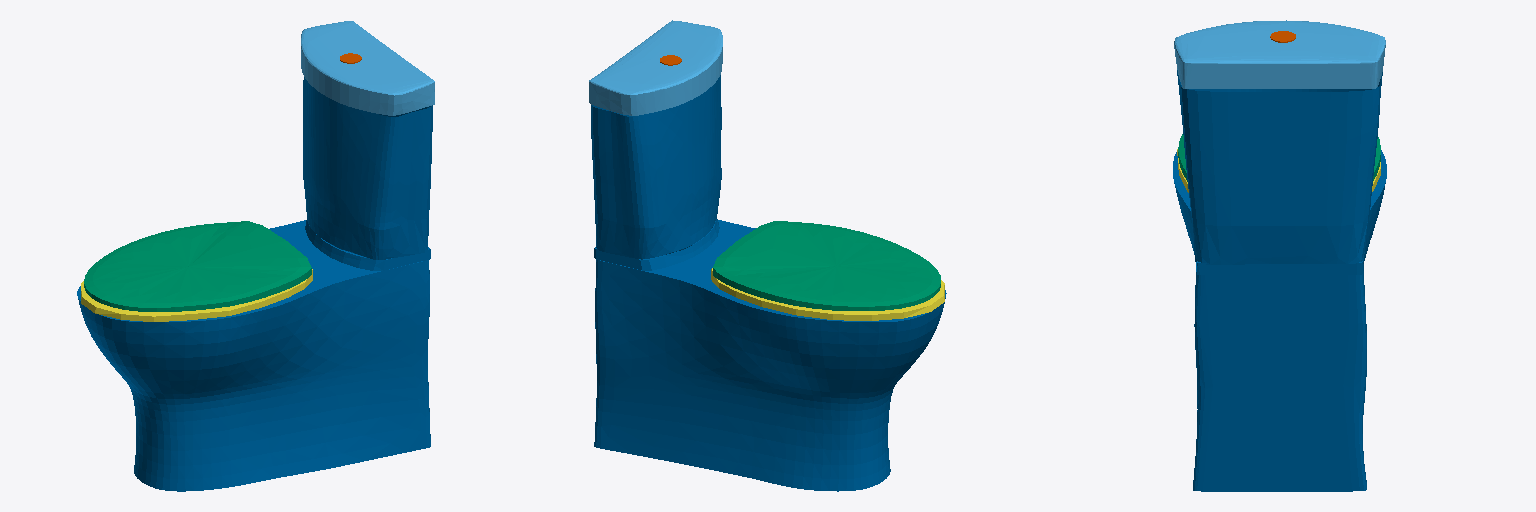
URDF robot description (partnet_85448c8365f5fa193321831d2245cf06):
<robot name="partnet_85448c8365f5fa193321831d2245cf06">
	<link name="base" />
	<link name="link_0">
		<collision>
			<origin xyz="0 0 0" />
			<geometry>
				<mesh filename="new_objs/102663_link_0_0.obj" />
			</geometry>
		</collision>
	<visual name="lid-part[&quot;id]">
			<origin xyz="0 0 0" />
			<geometry>
				<mesh filename="textured_objs/original-5.obj" />
			</geometry>
		</visual>
		</link>
	<joint name="joint_0" type="prismatic">
		<origin xyz="0 0 0" />
		<axis xyz="0 1 0" />
		<child link="link_0" />
		<parent link="link_3" />
		<limit lower="0" upper="0.01" />
	</joint>
	<link name="link_1">
		<collision>
			<origin xyz="0 -0.12285677105096757 0.005614757885865384" />
			<geometry>
				<mesh filename="new_objs/102663_link_1_0.obj" />
			</geometry>
		</collision>
	<visual name="lid-part[&quot;id]">
			<origin xyz="0 -0.12285677105096757 0.005614757885865384" />
			<geometry>
				<mesh filename="textured_objs/original-3.obj" />
			</geometry>
		</visual>
		</link>
	<joint name="joint_1" type="revolute">
		<origin xyz="0 0.12285677105096757 -0.005614757885865384" />
		<axis xyz="-1 0 0" />
		<child link="link_1" />
		<parent link="link_3" />
		<limit lower="-0.0" upper="1.7366026057343578" />
	</joint>
	<link name="link_2">
		<collision>
			<origin xyz="0 -0.09043046247932379 -0.002321841553028229" />
			<geometry>
				<mesh filename="new_objs/102663_link_2_0.obj" />
			</geometry>
		</collision>
	<visual name="seat-part[&quot;id]">
			<origin xyz="0 -0.09043046247932379 -0.002321841553028229" />
			<geometry>
				<mesh filename="textured_objs/original-7.obj" />
			</geometry>
		</visual>
		</link>
	<joint name="joint_2" type="revolute">
		<origin xyz="0 0.09043046247932379 0.002321841553028229" />
		<axis xyz="-1 0 0" />
		<child link="link_2" />
		<parent link="link_3" />
		<limit lower="-0.0" upper="1.6929693744344996" />
	</joint>
	<link name="link_3">
		<collision>
			<origin xyz="0 0 0" />
			<geometry>
				<mesh filename="new_objs/102663_link_3_61.obj" />
			</geometry>
		</collision>
		<collision>
			<origin xyz="0 0 0" />
			<geometry>
				<mesh filename="new_objs/102663_link_3_34.obj" />
			</geometry>
		</collision>
		<collision>
			<origin xyz="0 0 0" />
			<geometry>
				<mesh filename="new_objs/102663_link_3_50.obj" />
			</geometry>
		</collision>
		<collision>
			<origin xyz="0 0 0" />
			<geometry>
				<mesh filename="new_objs/102663_link_3_0.obj" />
			</geometry>
		</collision>
		<collision>
			<origin xyz="0 0 0" />
			<geometry>
				<mesh filename="new_objs/102663_link_3_12.obj" />
			</geometry>
		</collision>
		<collision>
			<origin xyz="0 0 0" />
			<geometry>
				<mesh filename="new_objs/102663_link_3_22.obj" />
			</geometry>
		</collision>
		<collision>
			<origin xyz="0 0 0" />
			<geometry>
				<mesh filename="new_objs/102663_link_3_54.obj" />
			</geometry>
		</collision>
		<collision>
			<origin xyz="0 0 0" />
			<geometry>
				<mesh filename="new_objs/102663_link_3_29.obj" />
			</geometry>
		</collision>
		<collision>
			<origin xyz="0 0 0" />
			<geometry>
				<mesh filename="new_objs/102663_link_3_13.obj" />
			</geometry>
		</collision>
		<collision>
			<origin xyz="0 0 0" />
			<geometry>
				<mesh filename="new_objs/102663_link_3_64.obj" />
			</geometry>
		</collision>
		<collision>
			<origin xyz="0 0 0" />
			<geometry>
				<mesh filename="new_objs/102663_link_3_60.obj" />
			</geometry>
		</collision>
		<collision>
			<origin xyz="0 0 0" />
			<geometry>
				<mesh filename="new_objs/102663_link_3_17.obj" />
			</geometry>
		</collision>
		<collision>
			<origin xyz="0 0 0" />
			<geometry>
				<mesh filename="new_objs/102663_link_3_56.obj" />
			</geometry>
		</collision>
		<collision>
			<origin xyz="0 0 0" />
			<geometry>
				<mesh filename="new_objs/102663_link_3_25.obj" />
			</geometry>
		</collision>
		<collision>
			<origin xyz="0 0 0" />
			<geometry>
				<mesh filename="new_objs/102663_link_3_58.obj" />
			</geometry>
		</collision>
		<collision>
			<origin xyz="0 0 0" />
			<geometry>
				<mesh filename="new_objs/102663_link_3_36.obj" />
			</geometry>
		</collision>
		<collision>
			<origin xyz="0 0 0" />
			<geometry>
				<mesh filename="new_objs/102663_link_3_40.obj" />
			</geometry>
		</collision>
		<collision>
			<origin xyz="0 0 0" />
			<geometry>
				<mesh filename="new_objs/102663_link_3_46.obj" />
			</geometry>
		</collision>
		<collision>
			<origin xyz="0 0 0" />
			<geometry>
				<mesh filename="new_objs/102663_link_3_16.obj" />
			</geometry>
		</collision>
		<collision>
			<origin xyz="0 0 0" />
			<geometry>
				<mesh filename="new_objs/102663_link_3_9.obj" />
			</geometry>
		</collision>
		<collision>
			<origin xyz="0 0 0" />
			<geometry>
				<mesh filename="new_objs/102663_link_3_37.obj" />
			</geometry>
		</collision>
		<collision>
			<origin xyz="0 0 0" />
			<geometry>
				<mesh filename="new_objs/102663_link_3_49.obj" />
			</geometry>
		</collision>
		<collision>
			<origin xyz="0 0 0" />
			<geometry>
				<mesh filename="new_objs/102663_link_3_14.obj" />
			</geometry>
		</collision>
		<collision>
			<origin xyz="0 0 0" />
			<geometry>
				<mesh filename="new_objs/102663_link_3_51.obj" />
			</geometry>
		</collision>
		<collision>
			<origin xyz="0 0 0" />
			<geometry>
				<mesh filename="new_objs/102663_link_3_10.obj" />
			</geometry>
		</collision>
		<collision>
			<origin xyz="0 0 0" />
			<geometry>
				<mesh filename="new_objs/102663_link_3_33.obj" />
			</geometry>
		</collision>
		<collision>
			<origin xyz="0 0 0" />
			<geometry>
				<mesh filename="new_objs/102663_link_3_38.obj" />
			</geometry>
		</collision>
		<collision>
			<origin xyz="0 0 0" />
			<geometry>
				<mesh filename="new_objs/102663_link_3_66.obj" />
			</geometry>
		</collision>
		<collision>
			<origin xyz="0 0 0" />
			<geometry>
				<mesh filename="new_objs/102663_link_3_57.obj" />
			</geometry>
		</collision>
		<collision>
			<origin xyz="0 0 0" />
			<geometry>
				<mesh filename="new_objs/102663_link_3_65.obj" />
			</geometry>
		</collision>
		<collision>
			<origin xyz="0 0 0" />
			<geometry>
				<mesh filename="new_objs/102663_link_3_24.obj" />
			</geometry>
		</collision>
		<collision>
			<origin xyz="0 0 0" />
			<geometry>
				<mesh filename="new_objs/102663_link_3_52.obj" />
			</geometry>
		</collision>
		<collision>
			<origin xyz="0 0 0" />
			<geometry>
				<mesh filename="new_objs/102663_link_3_3.obj" />
			</geometry>
		</collision>
		<collision>
			<origin xyz="0 0 0" />
			<geometry>
				<mesh filename="new_objs/102663_link_3_15.obj" />
			</geometry>
		</collision>
		<collision>
			<origin xyz="0 0 0" />
			<geometry>
				<mesh filename="new_objs/102663_link_3_53.obj" />
			</geometry>
		</collision>
		<collision>
			<origin xyz="0 0 0" />
			<geometry>
				<mesh filename="new_objs/102663_link_3_39.obj" />
			</geometry>
		</collision>
		<collision>
			<origin xyz="0 0 0" />
			<geometry>
				<mesh filename="new_objs/102663_link_3_19.obj" />
			</geometry>
		</collision>
		<collision>
			<origin xyz="0 0 0" />
			<geometry>
				<mesh filename="new_objs/102663_link_3_55.obj" />
			</geometry>
		</collision>
		<collision>
			<origin xyz="0 0 0" />
			<geometry>
				<mesh filename="new_objs/102663_link_3_1.obj" />
			</geometry>
		</collision>
		<collision>
			<origin xyz="0 0 0" />
			<geometry>
				<mesh filename="new_objs/102663_link_3_2.obj" />
			</geometry>
		</collision>
		<collision>
			<origin xyz="0 0 0" />
			<geometry>
				<mesh filename="new_objs/102663_link_3_8.obj" />
			</geometry>
		</collision>
		<collision>
			<origin xyz="0 0 0" />
			<geometry>
				<mesh filename="new_objs/102663_link_3_41.obj" />
			</geometry>
		</collision>
		<collision>
			<origin xyz="0 0 0" />
			<geometry>
				<mesh filename="new_objs/102663_link_3_20.obj" />
			</geometry>
		</collision>
		<collision>
			<origin xyz="0 0 0" />
			<geometry>
				<mesh filename="new_objs/102663_link_3_67.obj" />
			</geometry>
		</collision>
		<collision>
			<origin xyz="0 0 0" />
			<geometry>
				<mesh filename="new_objs/102663_link_3_62.obj" />
			</geometry>
		</collision>
		<collision>
			<origin xyz="0 0 0" />
			<geometry>
				<mesh filename="new_objs/102663_link_3_43.obj" />
			</geometry>
		</collision>
		<collision>
			<origin xyz="0 0 0" />
			<geometry>
				<mesh filename="new_objs/102663_link_3_23.obj" />
			</geometry>
		</collision>
		<collision>
			<origin xyz="0 0 0" />
			<geometry>
				<mesh filename="new_objs/102663_link_3_63.obj" />
			</geometry>
		</collision>
		<collision>
			<origin xyz="0 0 0" />
			<geometry>
				<mesh filename="new_objs/102663_link_3_7.obj" />
			</geometry>
		</collision>
		<collision>
			<origin xyz="0 0 0" />
			<geometry>
				<mesh filename="new_objs/102663_link_3_48.obj" />
			</geometry>
		</collision>
		<collision>
			<origin xyz="0 0 0" />
			<geometry>
				<mesh filename="new_objs/102663_link_3_6.obj" />
			</geometry>
		</collision>
		<collision>
			<origin xyz="0 0 0" />
			<geometry>
				<mesh filename="new_objs/102663_link_3_27.obj" />
			</geometry>
		</collision>
		<collision>
			<origin xyz="0 0 0" />
			<geometry>
				<mesh filename="new_objs/102663_link_3_44.obj" />
			</geometry>
		</collision>
		<collision>
			<origin xyz="0 0 0" />
			<geometry>
				<mesh filename="new_objs/102663_link_3_47.obj" />
			</geometry>
		</collision>
		<collision>
			<origin xyz="0 0 0" />
			<geometry>
				<mesh filename="new_objs/102663_link_3_18.obj" />
			</geometry>
		</collision>
		<collision>
			<origin xyz="0 0 0" />
			<geometry>
				<mesh filename="new_objs/102663_link_3_45.obj" />
			</geometry>
		</collision>
		<collision>
			<origin xyz="0 0 0" />
			<geometry>
				<mesh filename="new_objs/102663_link_3_32.obj" />
			</geometry>
		</collision>
		<collision>
			<origin xyz="0 0 0" />
			<geometry>
				<mesh filename="new_objs/102663_link_3_5.obj" />
			</geometry>
		</collision>
		<collision>
			<origin xyz="0 0 0" />
			<geometry>
				<mesh filename="new_objs/102663_link_3_31.obj" />
			</geometry>
		</collision>
		<collision>
			<origin xyz="0 0 0" />
			<geometry>
				<mesh filename="new_objs/102663_link_3_35.obj" />
			</geometry>
		</collision>
		<collision>
			<origin xyz="0 0 0" />
			<geometry>
				<mesh filename="new_objs/102663_link_3_11.obj" />
			</geometry>
		</collision>
		<collision>
			<origin xyz="0 0 0" />
			<geometry>
				<mesh filename="new_objs/102663_link_3_42.obj" />
			</geometry>
		</collision>
		<collision>
			<origin xyz="0 0 0" />
			<geometry>
				<mesh filename="new_objs/102663_link_3_30.obj" />
			</geometry>
		</collision>
		<collision>
			<origin xyz="0 0 0" />
			<geometry>
				<mesh filename="new_objs/102663_link_3_21.obj" />
			</geometry>
		</collision>
		<collision>
			<origin xyz="0 0 0" />
			<geometry>
				<mesh filename="new_objs/102663_link_3_4.obj" />
			</geometry>
		</collision>
		<collision>
			<origin xyz="0 0 0" />
			<geometry>
				<mesh filename="new_objs/102663_link_3_59.obj" />
			</geometry>
		</collision>
		<collision>
			<origin xyz="0 0 0" />
			<geometry>
				<mesh filename="new_objs/102663_link_3_28.obj" />
			</geometry>
		</collision>
		<collision>
			<origin xyz="0 0 0" />
			<geometry>
				<mesh filename="new_objs/102663_link_3_26.obj" />
			</geometry>
		</collision>
		<visual name="base_body-part[&quot;id]">
			<origin xyz="0 0 0" />
			<geometry>
				<mesh filename="textured_objs/original-4.obj" />
			</geometry>
		</visual>
		<visual name="base_body-part[&quot;id]">
			<origin xyz="0 0 0" />
			<geometry>
				<mesh filename="textured_objs/original-2.obj" />
			</geometry>
		</visual>
		<visual name="base_body-part[&quot;id]">
			<origin xyz="0 0 0" />
			<geometry>
				<mesh filename="textured_objs/original-1.obj" />
			</geometry>
		</visual>
		</link>
	<joint name="joint_3" type="fixed">
		<origin rpy="1.570796326794897 0 -1.570796326794897" xyz="0 0 0" />
		<child link="link_3" />
		<parent link="base" />
	</joint>
	<link name="link_4">
		<collision>
			<origin xyz="0 0 0" />
			<geometry>
				<mesh filename="new_objs/102663_link_4_2.obj" />
			</geometry>
		</collision>
	<collision>
			<origin xyz="0 0 0" />
			<geometry>
				<mesh filename="new_objs/102663_link_4_1.obj" />
			</geometry>
		</collision>
	<collision>
			<origin xyz="0 0 0" />
			<geometry>
				<mesh filename="new_objs/102663_link_4_5.obj" />
			</geometry>
		</collision>
	<collision>
			<origin xyz="0 0 0" />
			<geometry>
				<mesh filename="new_objs/102663_link_4_4.obj" />
			</geometry>
		</collision>
	<collision>
			<origin xyz="0 0 0" />
			<geometry>
				<mesh filename="new_objs/102663_link_4_3.obj" />
			</geometry>
		</collision>
	<collision>
			<origin xyz="0 0 0" />
			<geometry>
				<mesh filename="new_objs/102663_link_4_6.obj" />
			</geometry>
		</collision>
	<collision>
			<origin xyz="0 0 0" />
			<geometry>
				<mesh filename="new_objs/102663_link_4_0.obj" />
			</geometry>
		</collision>
	<visual name="button-part[&quot;id]">
			<origin xyz="0 0 0" />
			<geometry>
				<mesh filename="textured_objs/original-6.obj" />
			</geometry>
		</visual>
		</link>
	<joint name="joint_4" type="prismatic">
		<origin xyz="0 0 0" />
		<axis xyz="0 -1 0" />
		<child link="link_4" />
		<parent link="link_0" />
		<limit lower="0" upper="0.003" />
	</joint>
</robot>

--- What the picture shows (computed from the rendered views, not written in the file) ---
3 views of the same robot in one strip: view 1: azimuth 30°, elevation 25°; view 2: azimuth 150°, elevation 25°; view 3: azimuth 270°, elevation 25° (orthographic).
Model partnet_85448c8365f5fa193321831d2245cf06 with 6 links and 5 joints (2 revolute, 2 prismatic, 1 fixed), rooted at base, posed all joints at 0.
Visible links, largest first — view 1: link_3, link_1, link_0, link_2; view 2: link_3, link_1, link_0, link_2; view 3: link_3, link_0.
Boxes of the visible links, x1,y1,x2,y2 form: link_3: (77, 77, 432, 491); link_1: (84, 221, 311, 311); link_0: (301, 21, 434, 115); link_2: (81, 269, 312, 321); link_3: (591, 75, 946, 491); link_1: (713, 221, 940, 310); link_0: (589, 20, 722, 115); link_2: (711, 268, 944, 320); link_3: (1173, 70, 1386, 491); link_0: (1174, 20, 1385, 88).
Bounding box of the posed robot: 1.34 × 0.687 × 1.52 m (x, y, z).
Meshes: 7 distinct files referenced, 7 mesh visuals loaded (7 OBJ).
